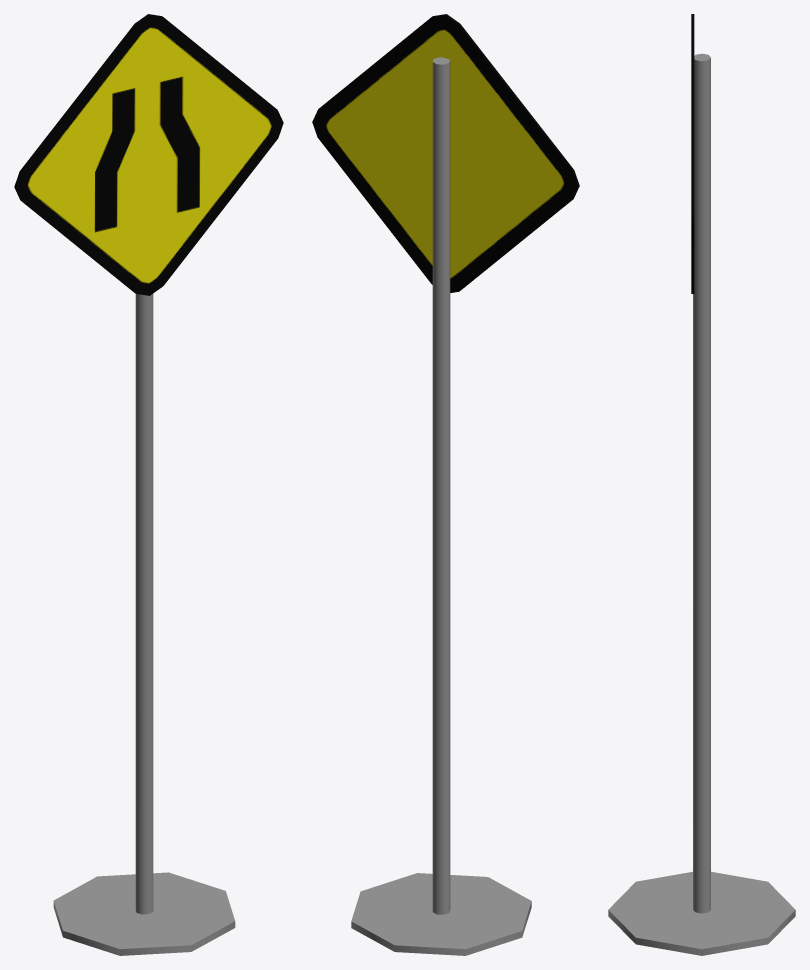
The model's file is Narrowing_Road.fbx.
The picture shows the model from 3 angles, left to right: view 1: azimuth 30°, elevation 25°; view 2: azimuth 150°, elevation 25°; view 3: azimuth 270°, elevation 25°; orthographic projection.
Parts seen in each view (by area): view 1: Narrowing Road; view 2: Narrowing Road; view 3: Narrowing Road.
Boxes of the visible parts, x1,y1,x2,y2 form: Narrowing Road: (14, 14, 283, 955); Narrowing Road: (312, 14, 579, 955); Narrowing Road: (608, 14, 795, 955).
Size of the model in its own units: 0.0628 by 0.2029 by 0.0382.
Materials: 2 (2 with a texture image).
